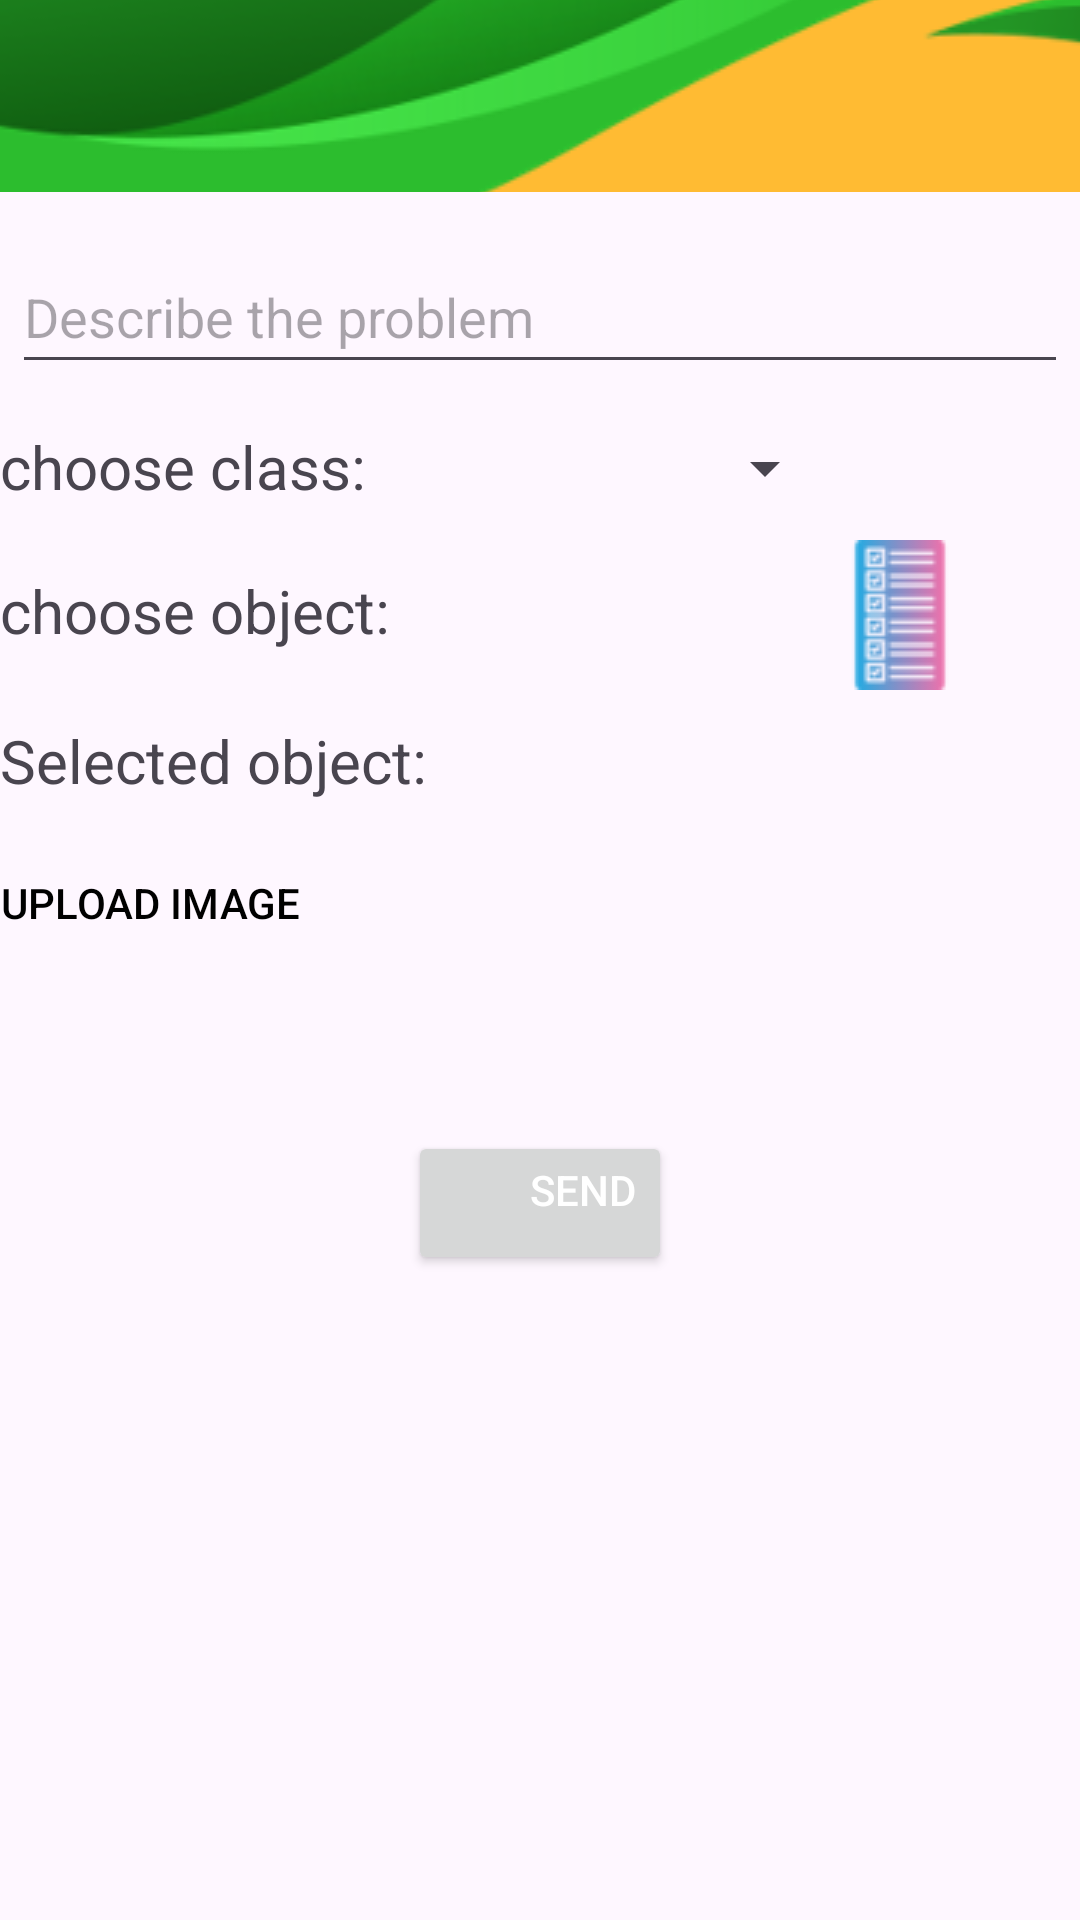

Screen size 1080x1920. Icon name, then its box in pixels as rect(x1, y1, x2, y2):
objectlisticon: rect(854, 540, 946, 690)
